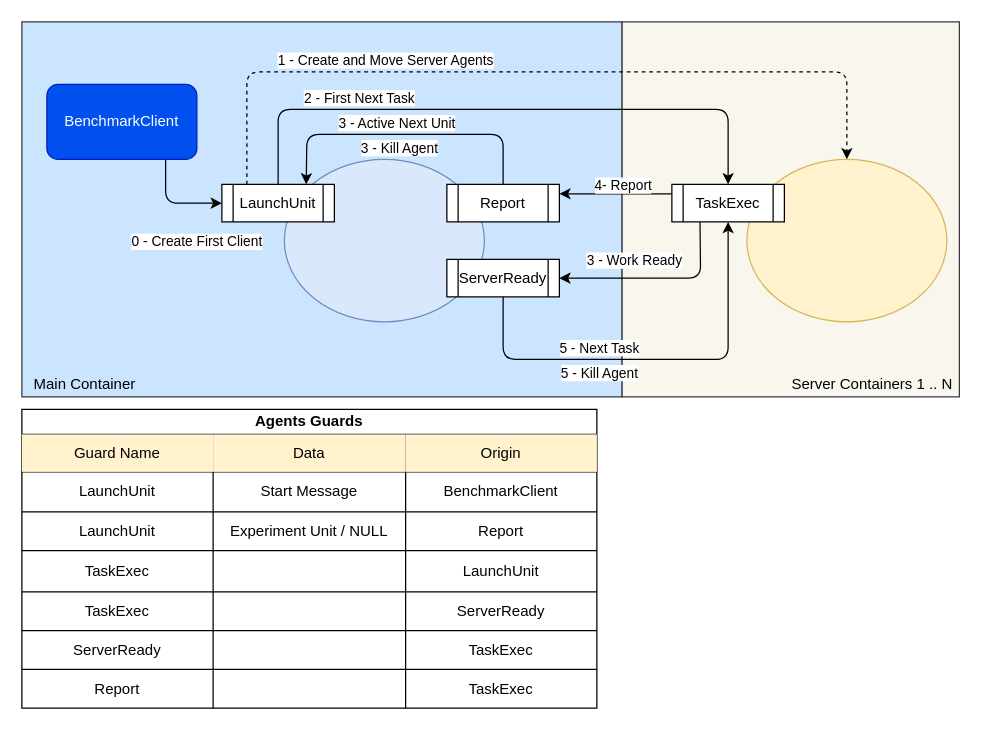
The diagram is 981 pixels wide and 730 high, and some of its shapes have lost their labels. The centre of each missing label's shape, as x and y in pixels:
"ClientAgent" belongs at [383,240].
"ServerAgent" belongs at [846,240].
